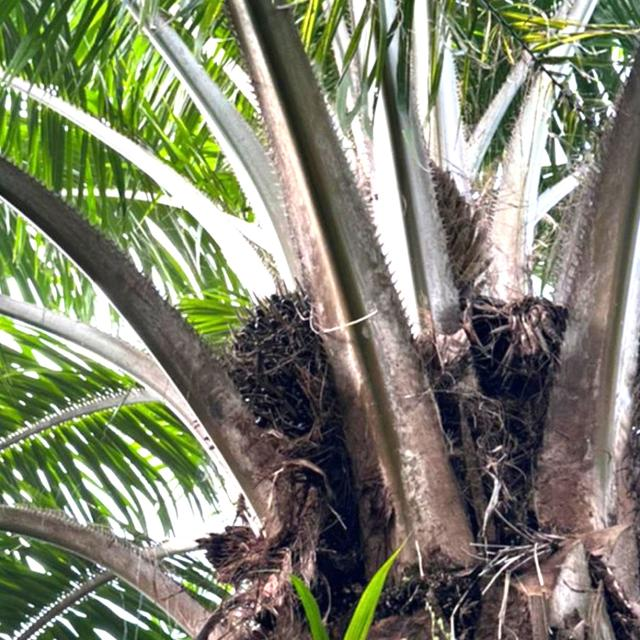unripe: (220, 275, 354, 469)
